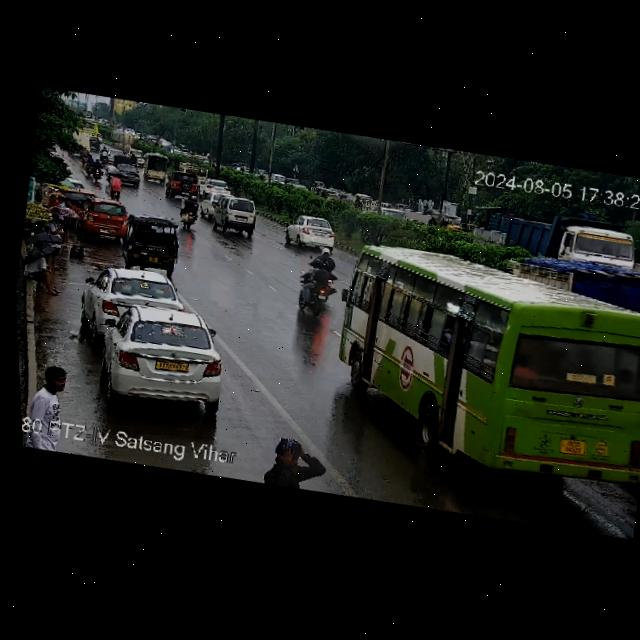bus: (316, 225, 640, 464)
car: (92, 298, 237, 416), (77, 259, 185, 340), (121, 213, 187, 273), (279, 208, 342, 255), (206, 193, 262, 240), (77, 197, 131, 243), (424, 209, 474, 237), (163, 169, 201, 204), (141, 152, 177, 186), (113, 162, 145, 191), (199, 176, 236, 198)
motorcycle: (288, 252, 343, 321), (175, 189, 204, 231), (303, 245, 341, 274), (86, 156, 107, 181), (96, 139, 113, 166)
person: (19, 358, 78, 422), (33, 202, 78, 273), (16, 244, 70, 297)
